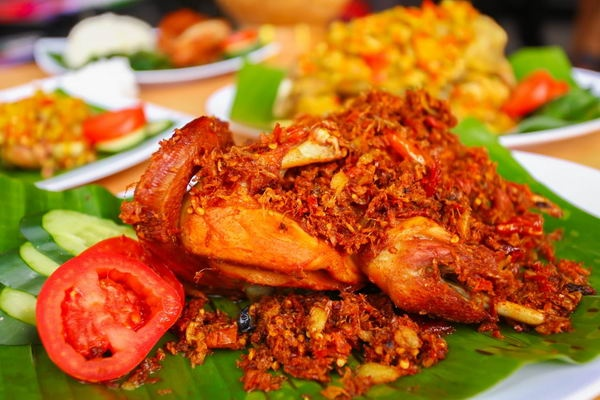ayam_betutu: (129, 117, 566, 323)
